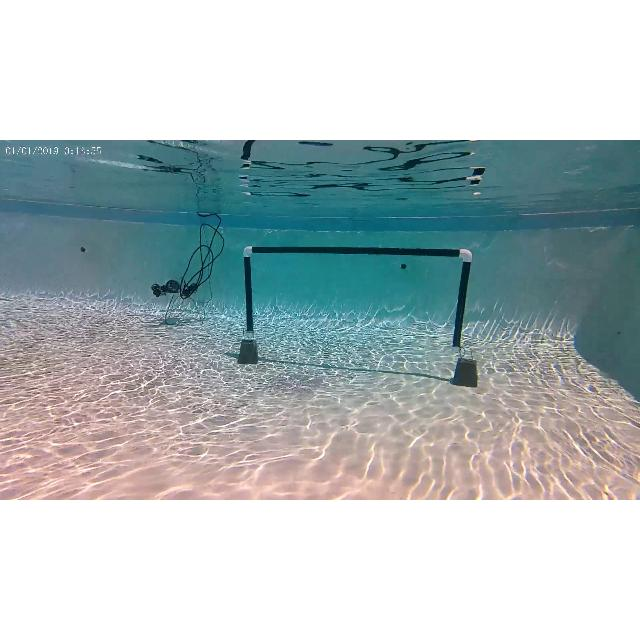prequal gate: (244, 246, 472, 338)
prequal gate leg l: (239, 242, 265, 348)
prequal gate leg r: (452, 243, 476, 351)
